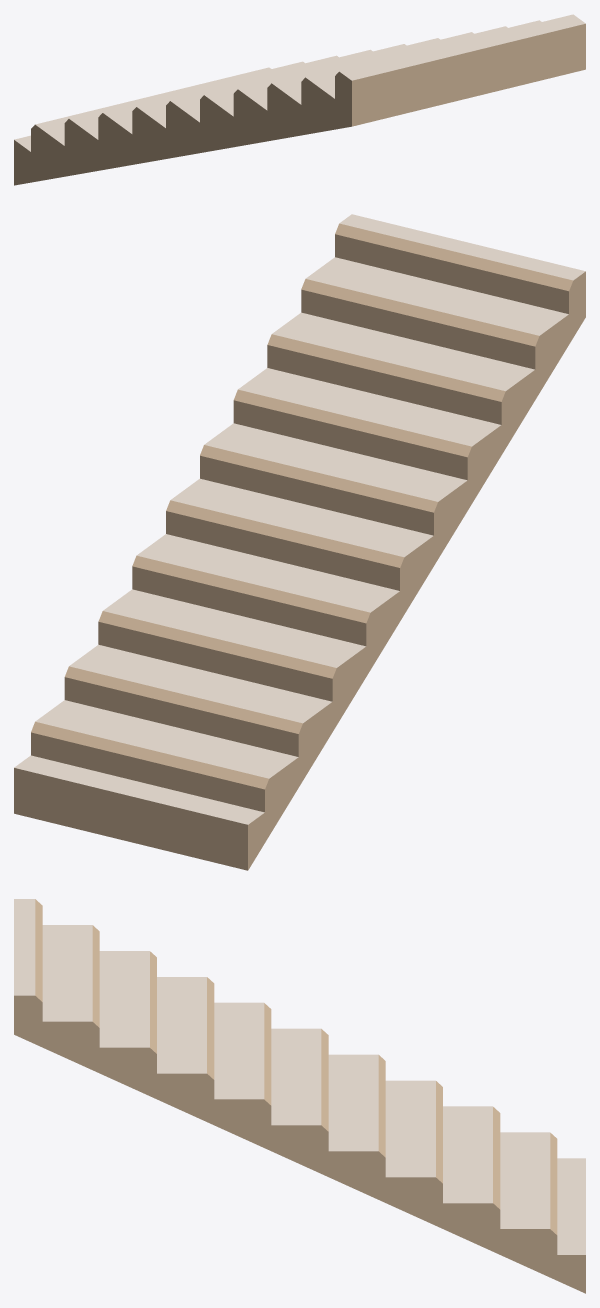
The model's file is Stairs_Steps_Straight.fbx.
The picture shows the model from 3 angles, top to bottom: view 1: azimuth 30°, elevation 25°; view 2: azimuth 150°, elevation 25°; view 3: azimuth 270°, elevation 25°; orthographic projection. The views are drawn at different scales.
Visible parts, largest first — view 1: Sandstone_Trim.Sandstone_Trim.Sandstone_Trim.Sandstone_Trim., Sandstone_Floor.Sandstone_Floor.Sandstone_Floor.Sandstone_Fl; view 2: Sandstone_Trim.Sandstone_Trim.Sandstone_Trim.Sandstone_Trim., Sandstone_Floor.Sandstone_Floor.Sandstone_Floor.Sandstone_Fl; view 3: Sandstone_Floor.Sandstone_Floor.Sandstone_Floor.Sandstone_Fl, Sandstone_Trim.Sandstone_Trim.Sandstone_Trim.Sandstone_Trim..
Part boxes in pixels (left/top/right/bottom): Sandstone_Trim.Sandstone_Trim.Sandstone_Trim.Sandstone_Trim.: left=14, top=23, right=585, bottom=185; Sandstone_Floor.Sandstone_Floor.Sandstone_Floor.Sandstone_Fl: left=14, top=14, right=585, bottom=151; Sandstone_Trim.Sandstone_Trim.Sandstone_Trim.Sandstone_Trim.: left=14, top=223, right=585, bottom=870; Sandstone_Floor.Sandstone_Floor.Sandstone_Floor.Sandstone_Fl: left=14, top=214, right=585, bottom=824; Sandstone_Floor.Sandstone_Floor.Sandstone_Floor.Sandstone_Fl: left=14, top=899, right=585, bottom=1254; Sandstone_Trim.Sandstone_Trim.Sandstone_Trim.Sandstone_Trim.: left=14, top=899, right=585, bottom=1293.
Bounding box in the file's own units: 0.8 × 1.15 × 2.
